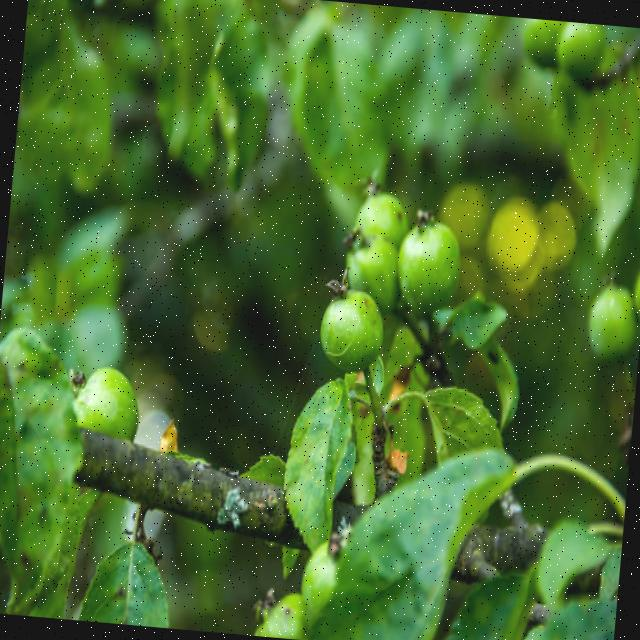Unripe: (392, 212, 463, 313), (315, 284, 384, 376)
